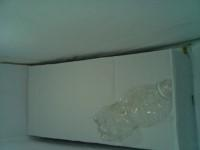bottle: (90, 0, 172, 45)
